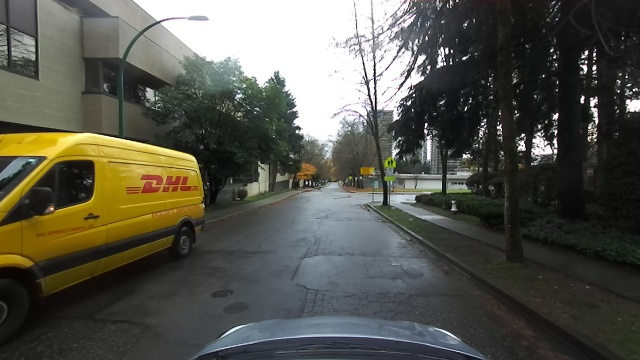car: (2, 124, 207, 286)
